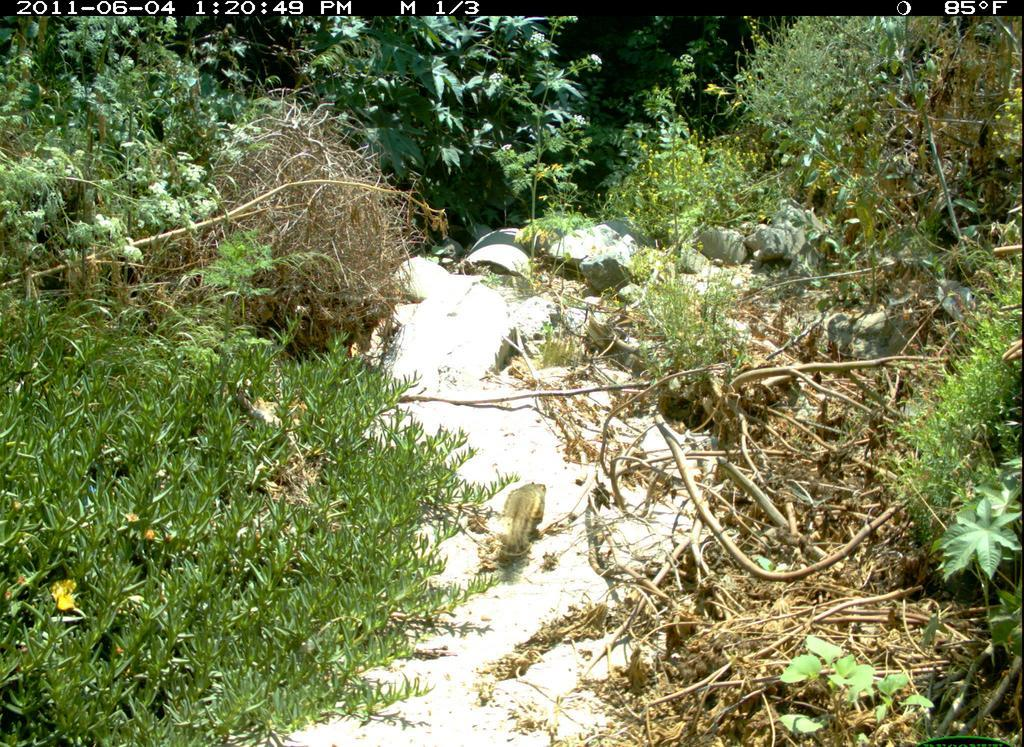squirrel: (481, 459, 552, 577)
